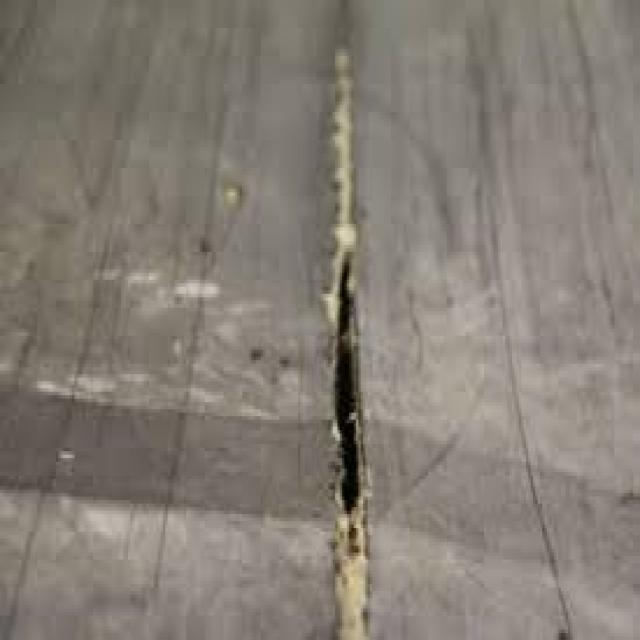Tear: (325, 243, 369, 528)
